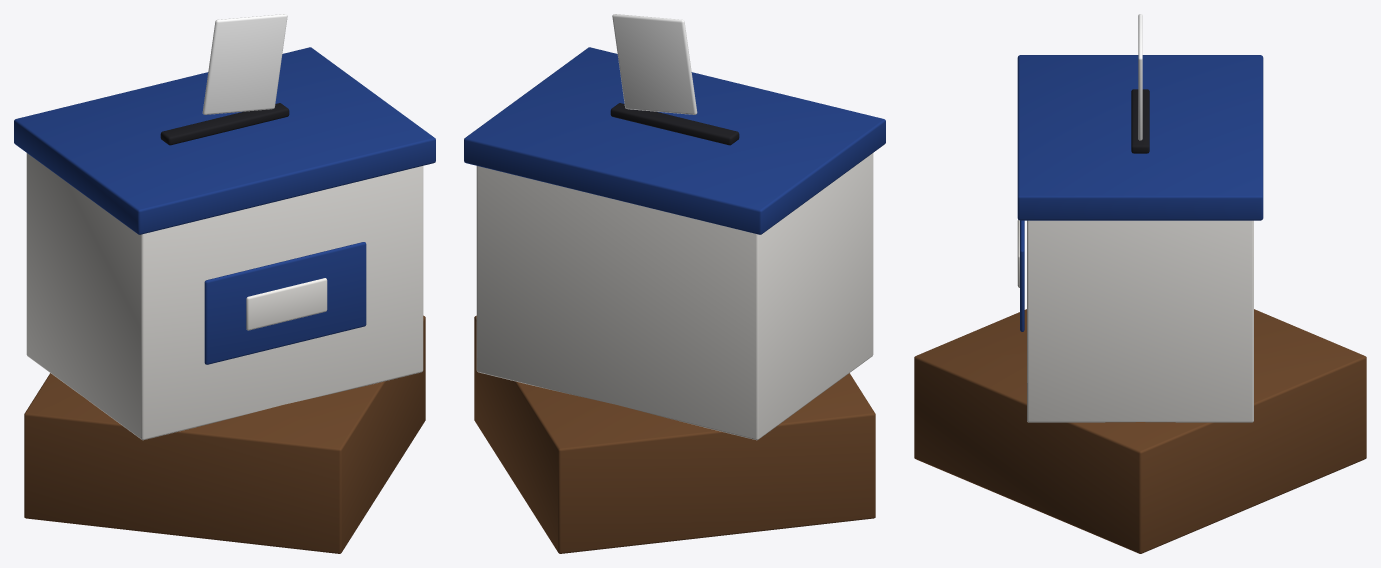
File: ballot_box.glb
3 renders of one model, left to right at view 1: azimuth 30°, elevation 25°; view 2: azimuth 150°, elevation 25°; view 3: azimuth 270°, elevation 25°, orthographic. The views are drawn at different scales.
Parts seen in each view (by area): view 1: ballot_box; view 2: ballot_box; view 3: ballot_box.
Boxes of the visible parts, x1,y1,x2,y2 form: ballot_box: (14, 14, 435, 553); ballot_box: (464, 14, 885, 553); ballot_box: (914, 14, 1366, 553).
Bounding box in the file's own units: 0.9955 × 1.07 × 0.9955.
